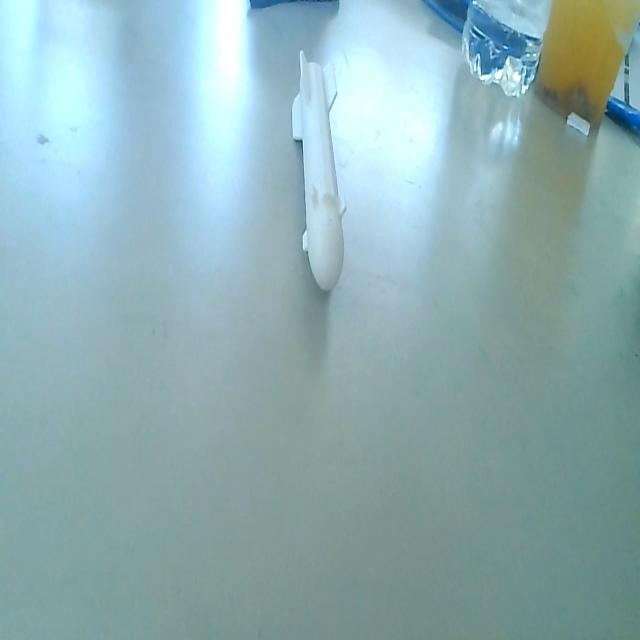Rocket: (287, 44, 349, 302)
